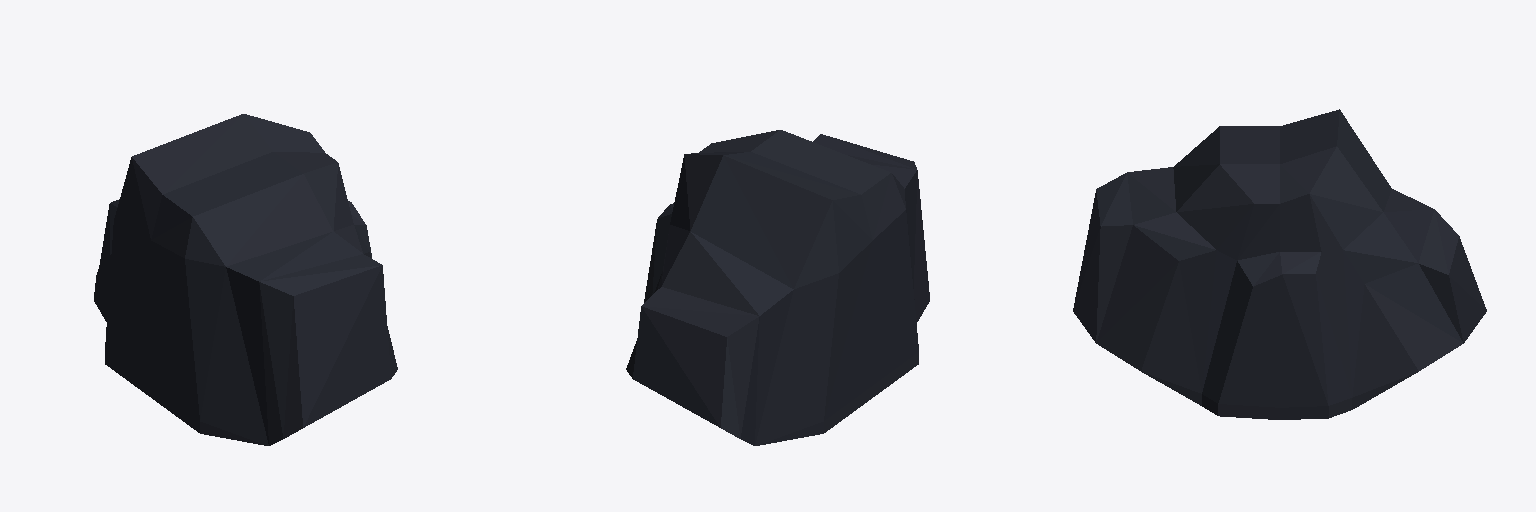
The model's file is Rock_4.obj.
The picture shows the model from 3 angles: view 1: azimuth 30°, elevation 25°; view 2: azimuth 150°, elevation 25°; view 3: azimuth 270°, elevation 25°; orthographic projection.
Parts seen in each view (by area): view 1: Rock_4_Cube.022; view 2: Rock_4_Cube.022; view 3: Rock_4_Cube.022.
Part boxes in pixels (x1,y1,x2,y2): Rock_4_Cube.022: (94,114,397,445); Rock_4_Cube.022: (626,130,929,445); Rock_4_Cube.022: (1073,109,1486,419).
Bounding box in the file's own units: 0.7436 × 0.7836 × 1.25.